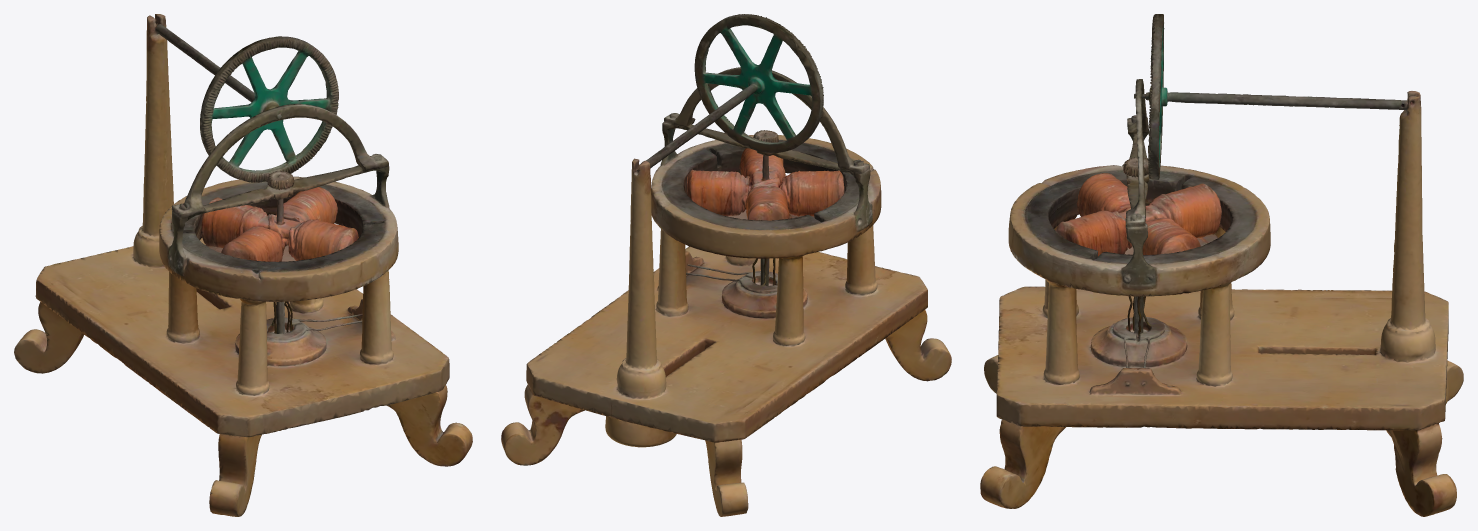
Rendered from mobile.glb.
3 views of the same model, side by side, from view 1: azimuth 30°, elevation 25°; view 2: azimuth 150°, elevation 25°; view 3: azimuth 270°, elevation 25° (orthographic). The views are drawn at different scales.
Bounding box in the file's own units: 0.2626 × 0.37 × 0.3778.
1 material, 1 textured.
